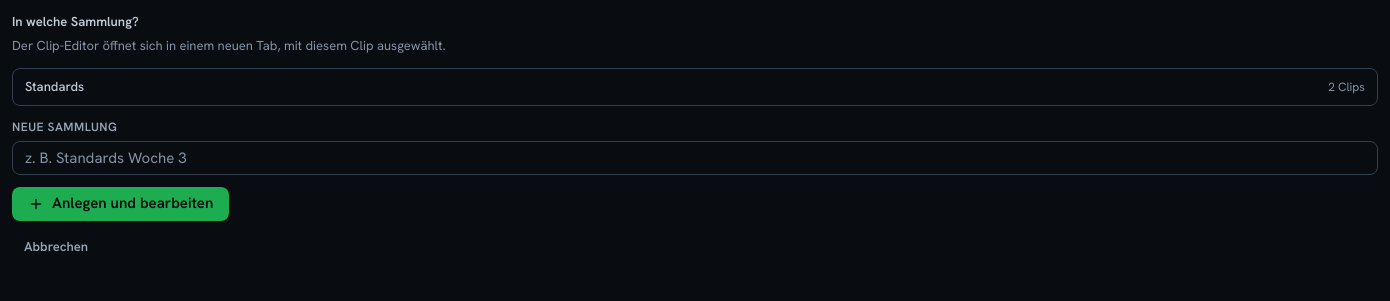
it: EditInCollection › closes the tab and says so when adding failed
Click the button "Standards 2 Clips" at (55,87), box [12,68,1378,106]
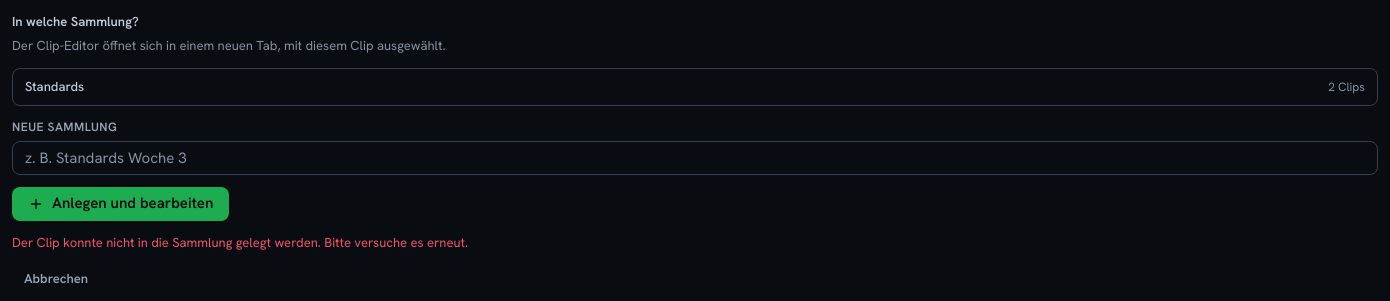
Now the text "Der Clip konnte nicht in die Sammlung gelegt werden. Bitte versuche es erneut." is shown, box [12,234,468,251]
